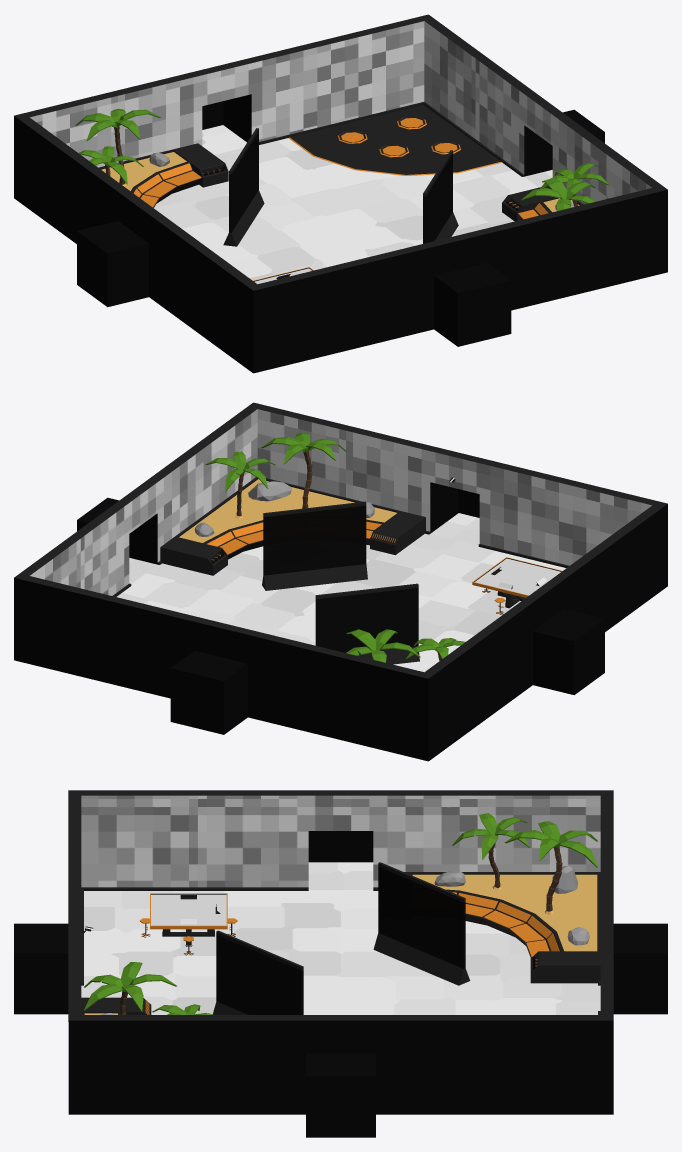
Rendered from Recreation_Room_1x1x4.fbx.
3 renders of one model, top to bottom at view 1: azimuth 30°, elevation 25°; view 2: azimuth 150°, elevation 25°; view 3: azimuth 270°, elevation 25°, orthographic. The views are drawn at different scales.
Parts seen in each view (by area): view 1: Recreation_Room_1x1x4; view 2: Recreation_Room_1x1x4; view 3: Recreation_Room_1x1x4.
Boxes of the visible parts, box(x1,y1,x2,y2) form: Recreation_Room_1x1x4: box(14, 14, 667, 373); Recreation_Room_1x1x4: box(14, 402, 667, 761); Recreation_Room_1x1x4: box(14, 790, 667, 1137).
Bounding box in the file's own units: 50.4 × 50.4 × 8.19.
